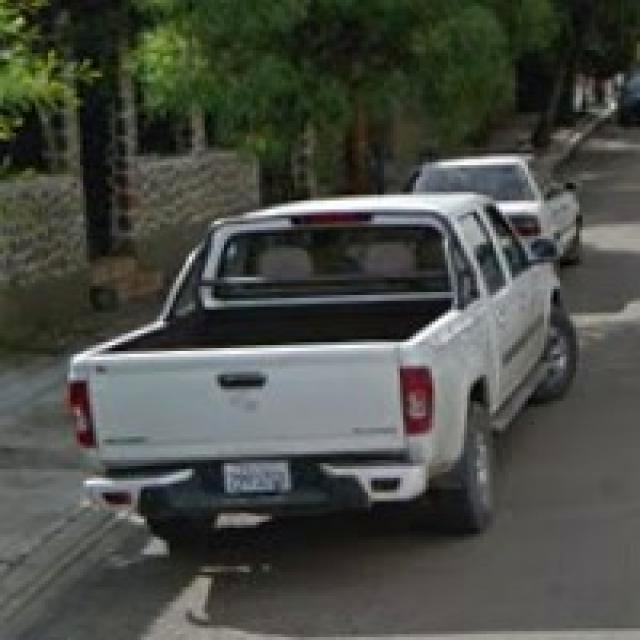Car: (66, 204, 584, 564), (422, 138, 603, 248)
